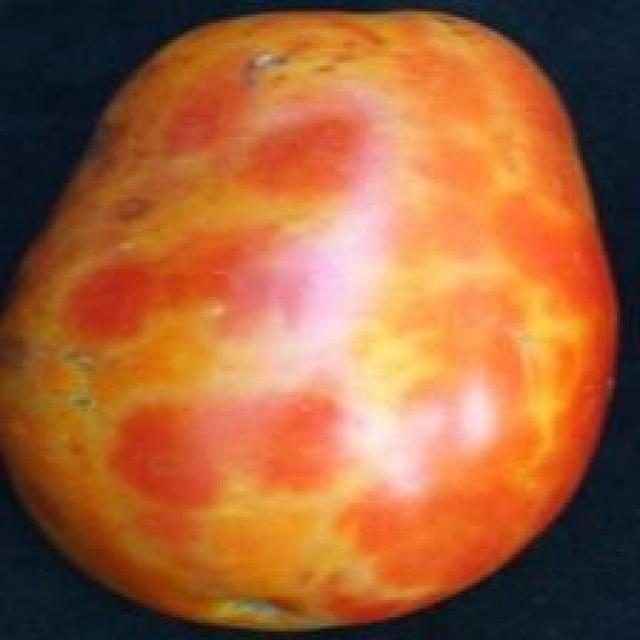Spotted wilt Virus Fruit: (2, 7, 410, 422)
